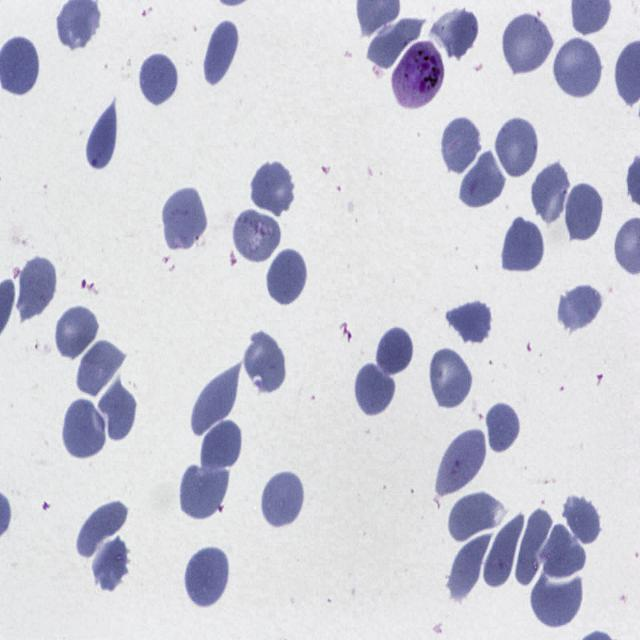red blood cell: (191, 362, 241, 437), (552, 36, 604, 102), (437, 426, 488, 492), (447, 532, 493, 603), (184, 543, 232, 611), (366, 16, 425, 71), (76, 499, 129, 560), (502, 13, 552, 77), (178, 460, 230, 521), (514, 507, 554, 586), (458, 147, 508, 210), (61, 396, 109, 461), (446, 492, 506, 544), (483, 512, 524, 588), (428, 345, 474, 412), (13, 256, 60, 321), (75, 338, 124, 400), (494, 114, 540, 180), (242, 331, 288, 396), (95, 376, 137, 446), (201, 15, 240, 90), (530, 575, 583, 630), (248, 158, 296, 218), (260, 468, 306, 530), (500, 214, 546, 276), (537, 522, 587, 579), (531, 158, 572, 227), (265, 244, 309, 308), (161, 187, 206, 249), (440, 114, 483, 178), (233, 209, 283, 264), (431, 5, 480, 61), (54, 304, 100, 362), (565, 180, 605, 245), (353, 360, 397, 418), (200, 418, 244, 474), (85, 97, 118, 171), (90, 533, 129, 595), (444, 296, 493, 344), (558, 281, 604, 332), (138, 51, 179, 106), (376, 325, 416, 378), (562, 494, 601, 545), (485, 400, 521, 455)
schizont: (392, 39, 443, 109)
